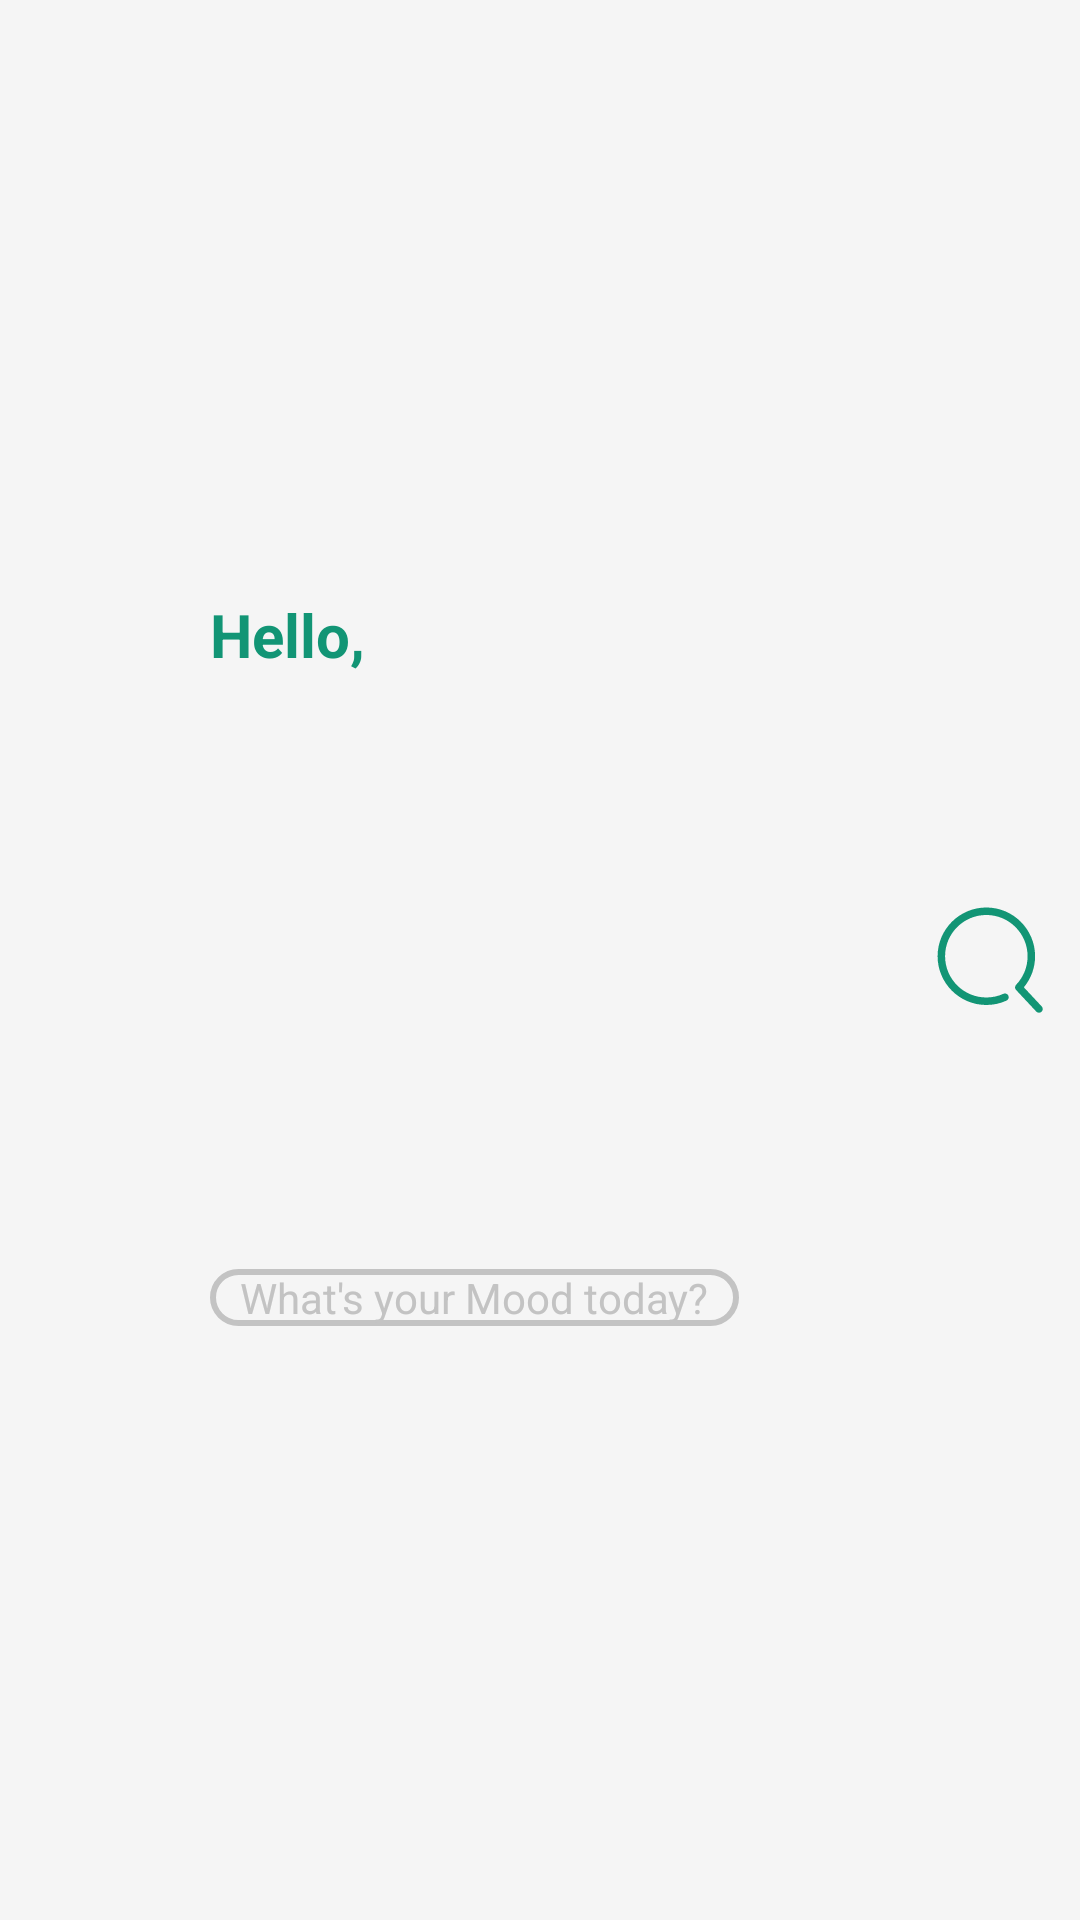

Point at icon controls on the screen. Image size 1080*1920, points as (x=x, y=y).
search: (x=990, y=960)
